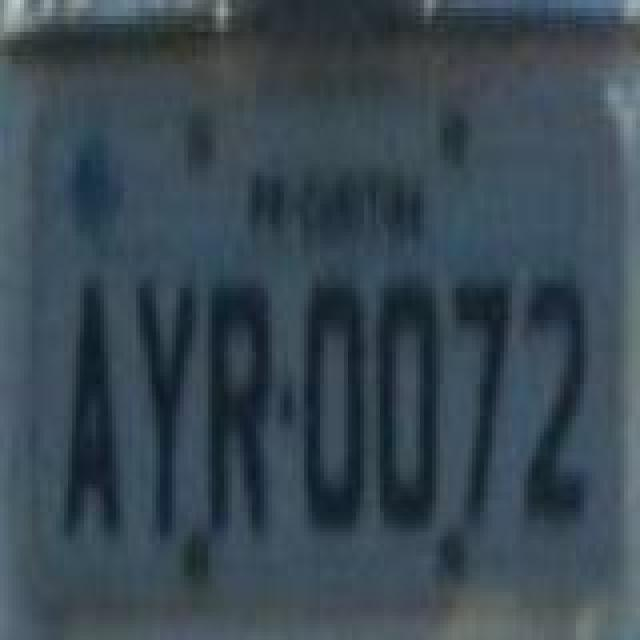2: (518, 272, 586, 528)
7: (450, 274, 510, 526)
A: (62, 270, 122, 546)
O: (304, 278, 368, 538), (376, 278, 440, 538)
R: (206, 282, 274, 550)
Y: (134, 274, 202, 542)
